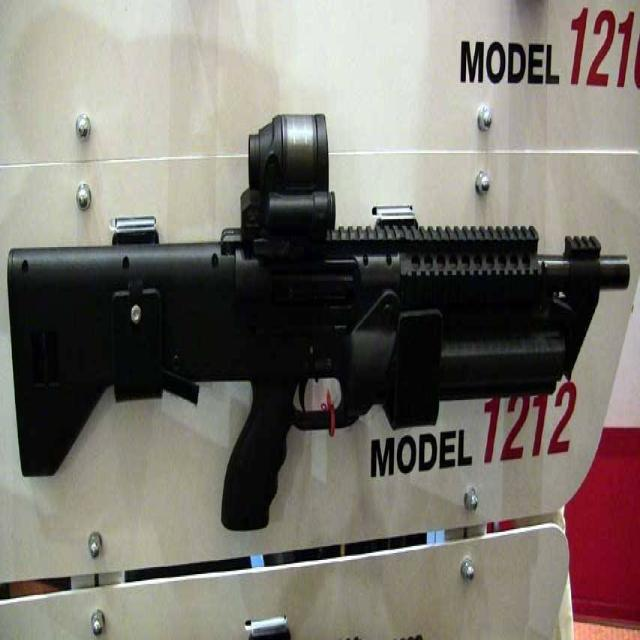firearm: (6, 110, 631, 533)
